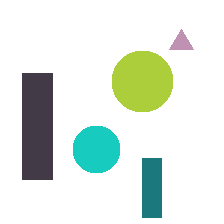circle: (112, 51, 172, 111), (73, 126, 119, 172)
rectangle: (22, 73, 52, 179), (142, 158, 161, 217)
triangle: (169, 29, 193, 49)
